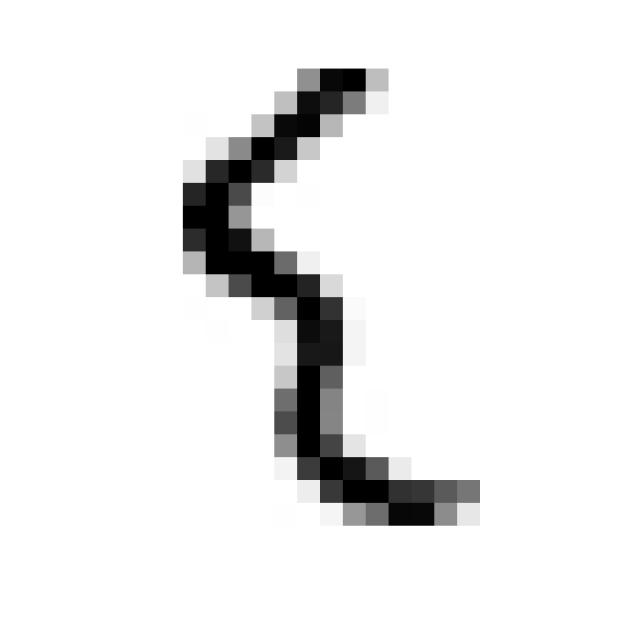4 -four-: (160, 46, 498, 549)
